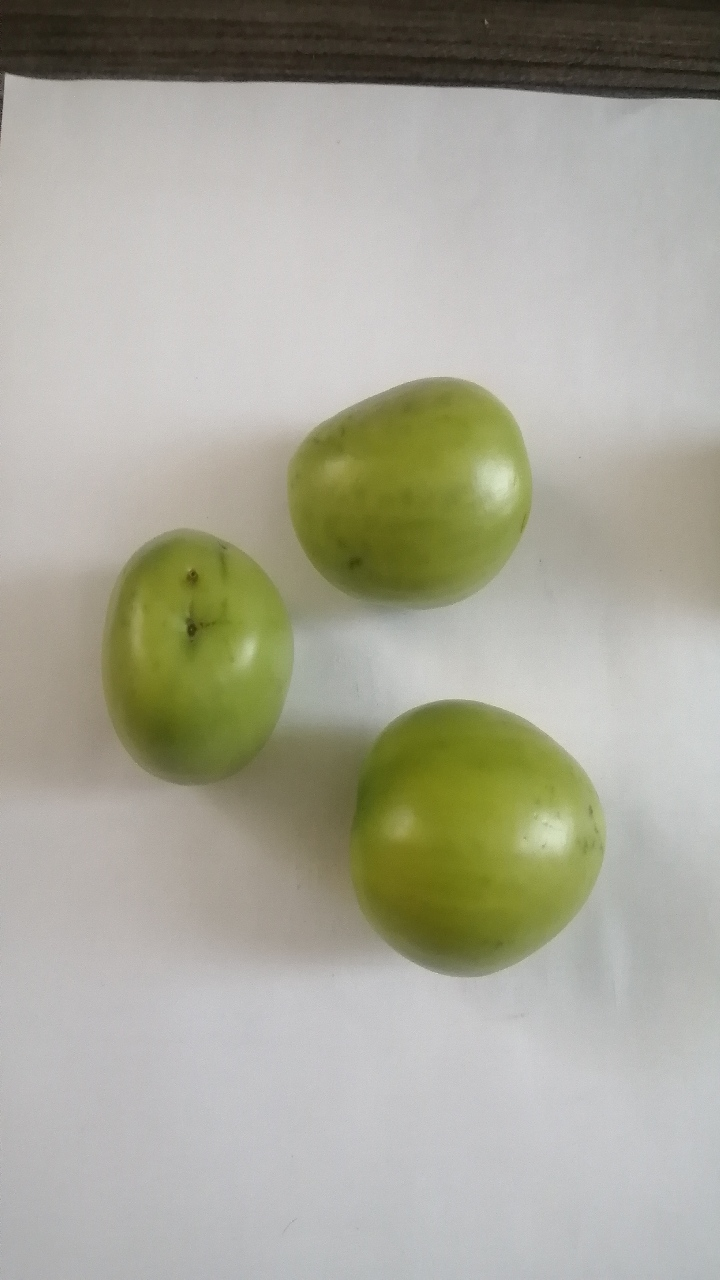tomateVerde: (323, 674, 624, 999), (268, 345, 588, 632), (71, 508, 300, 814)
